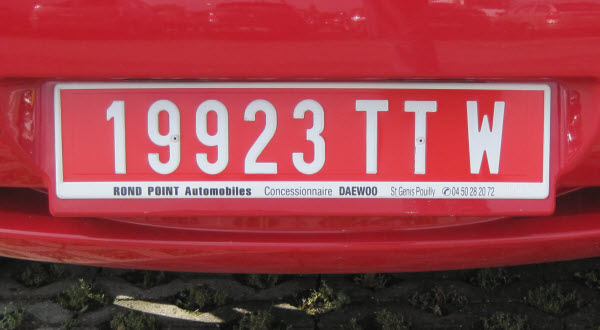license_plate: (54, 83, 552, 201)
